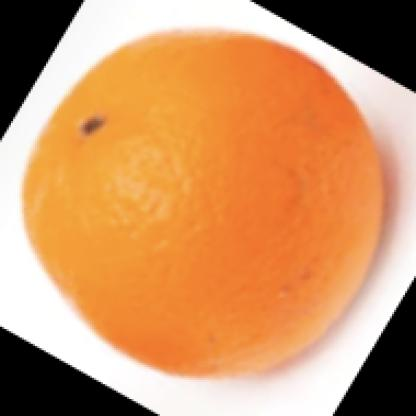fresh: (22, 29, 386, 383)
